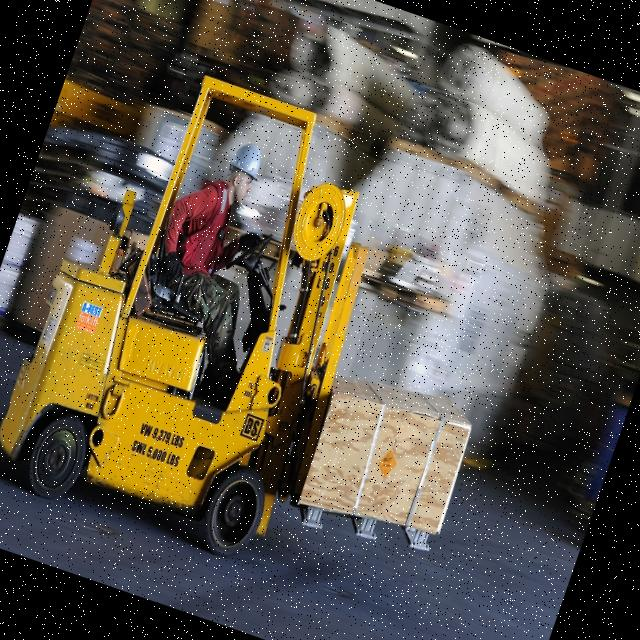Person: (120, 126, 294, 391)
